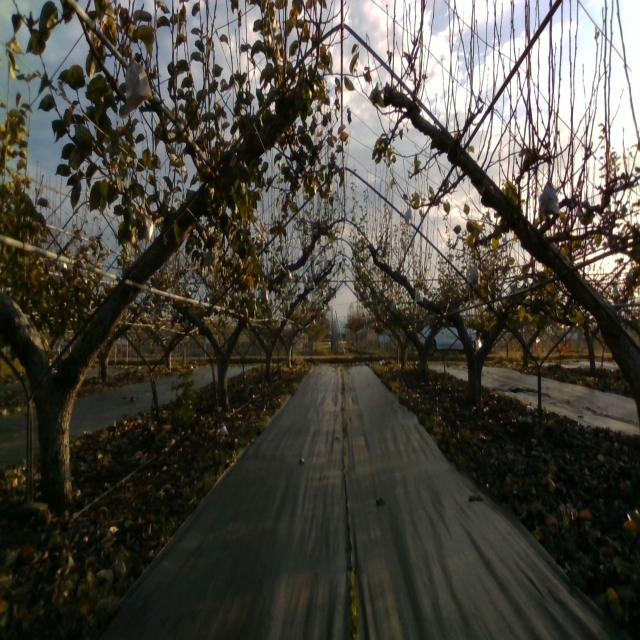pearbags: (125, 54, 153, 113), (539, 172, 560, 215), (139, 205, 154, 242), (468, 264, 478, 284)
